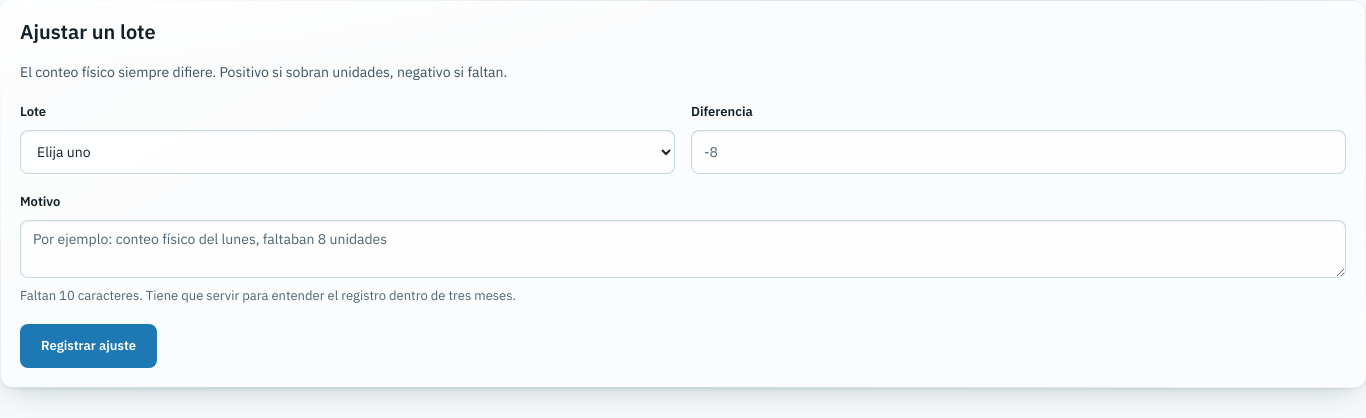
Test: el contador de motivo, que está en los tres formularios › al llegar al mínimo dice «Suficiente.» y deja de contar
The image size is (1366, 418).
In the text box labelled "Motivo": (683, 249) [20, 220, 1346, 278], type "conteo del lunes"
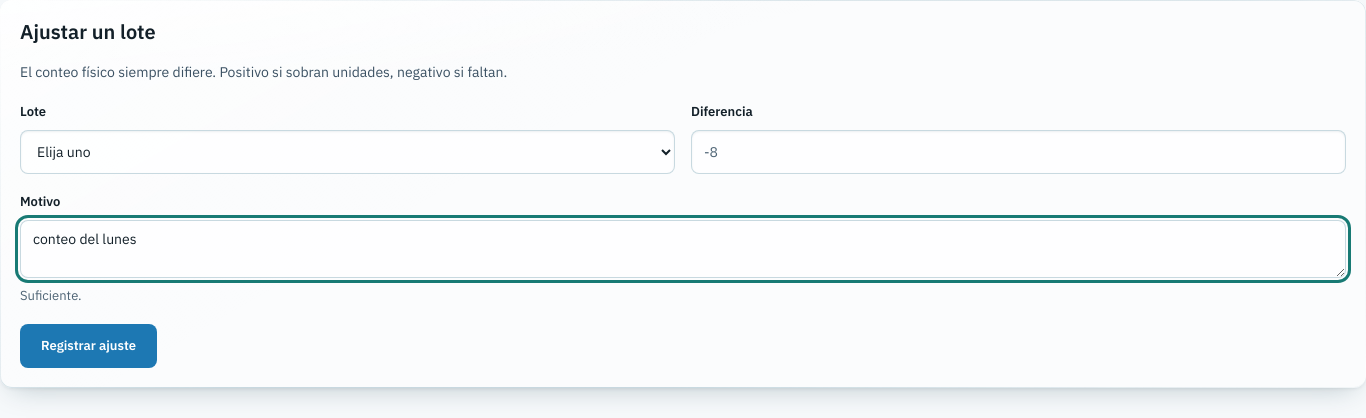
Expected: the text "Faltan" is not shown
Expected: the text "Suficiente." is shown, [20, 287, 82, 304]
